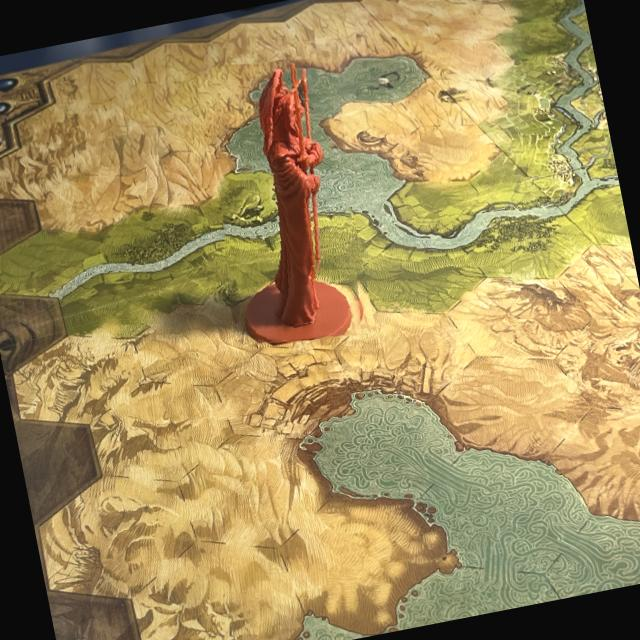amon: (188, 48, 382, 355)
